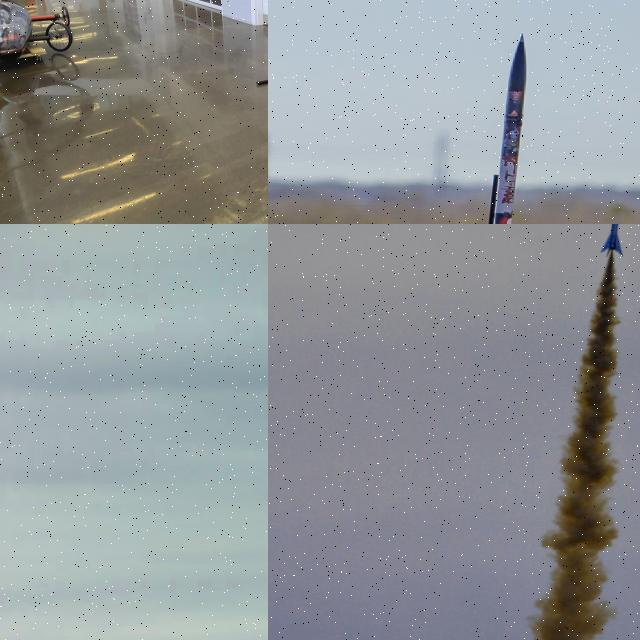Rocket: (464, 31, 529, 224), (600, 224, 624, 257)
